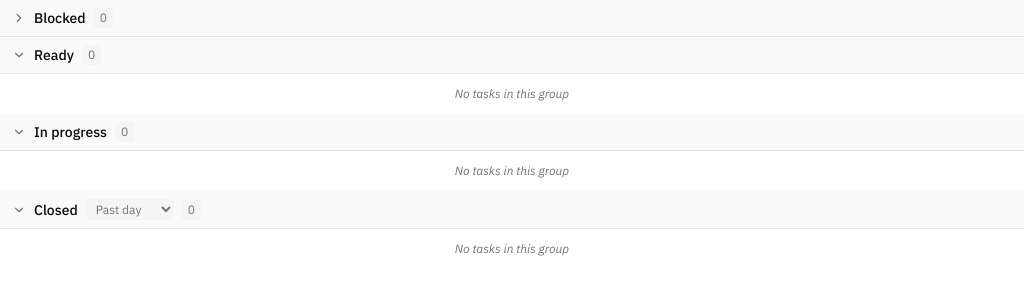
TaskList › closed tasks time filter › shows all closed tasks when all_time is selected
This screenshot has width=1024, height=283.
expect the text "Very old task" is not shown: met
// Change to all_time
Select "All time" in the dropdown named "Filter closed tasks by time" at (130, 210), box [86,199,174,220]
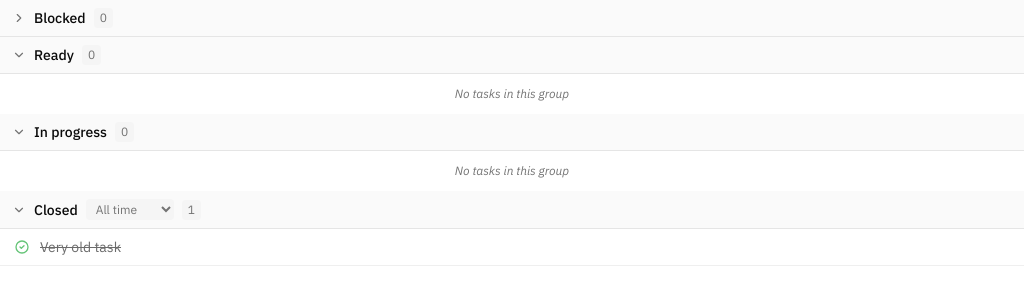
expect the text "Very old task" is shown: met, box [40,238,121,256]
